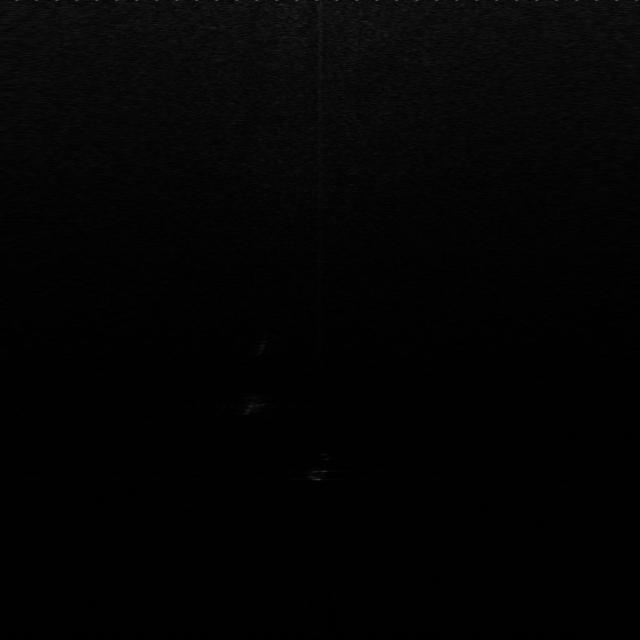circle cage: (236, 389, 270, 420)
tyre: (303, 446, 341, 484)
